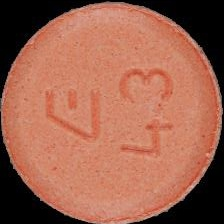68084-241: (0, 0, 224, 224)
